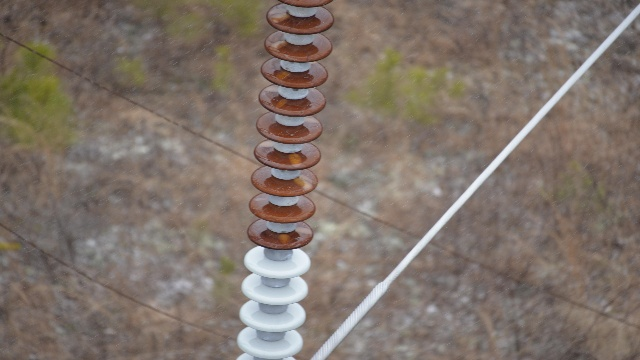insulator_unspecified: (236, 0, 341, 359)
pollution_flashover_local: (270, 64, 293, 83), (267, 6, 291, 23), (267, 36, 288, 52), (294, 173, 312, 191), (286, 149, 301, 168), (279, 232, 291, 249), (294, 224, 311, 234)
